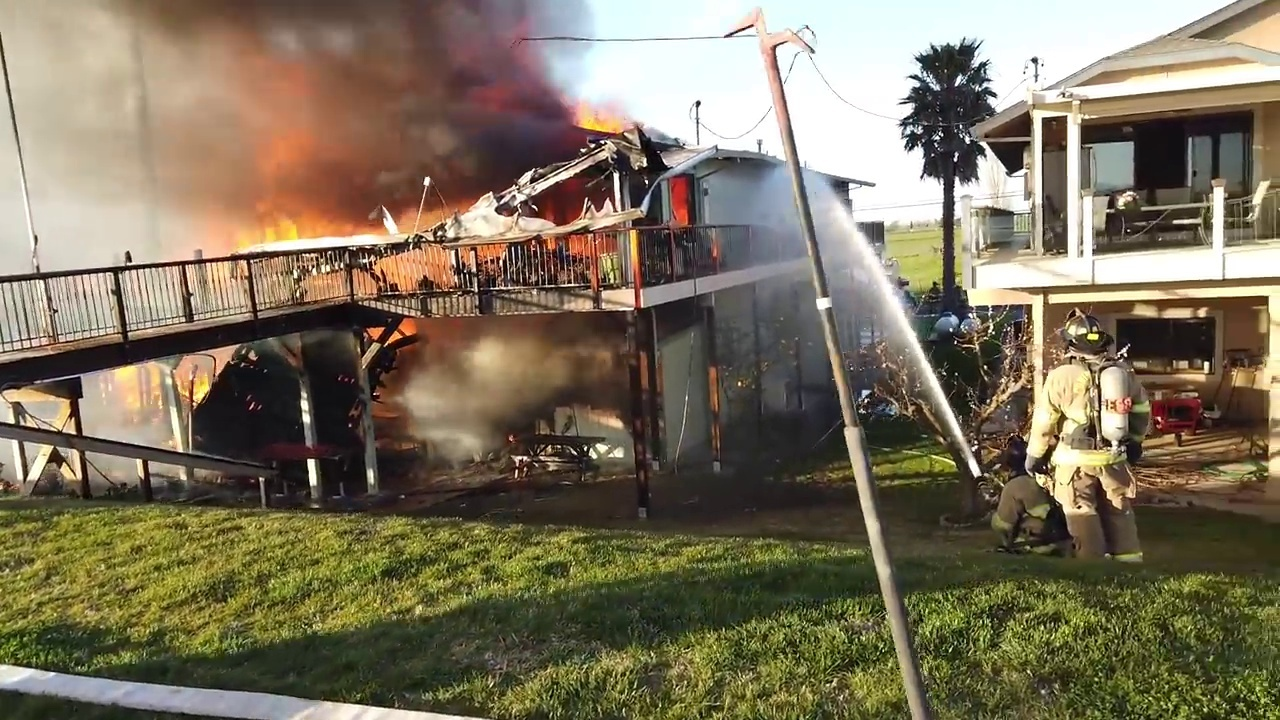fire: (571, 98, 631, 140), (667, 177, 697, 222)
smoke: (4, 1, 579, 192), (399, 317, 622, 430), (2, 196, 245, 255), (80, 374, 189, 447), (2, 441, 82, 491), (414, 429, 496, 474), (88, 451, 139, 493), (147, 462, 184, 492)
